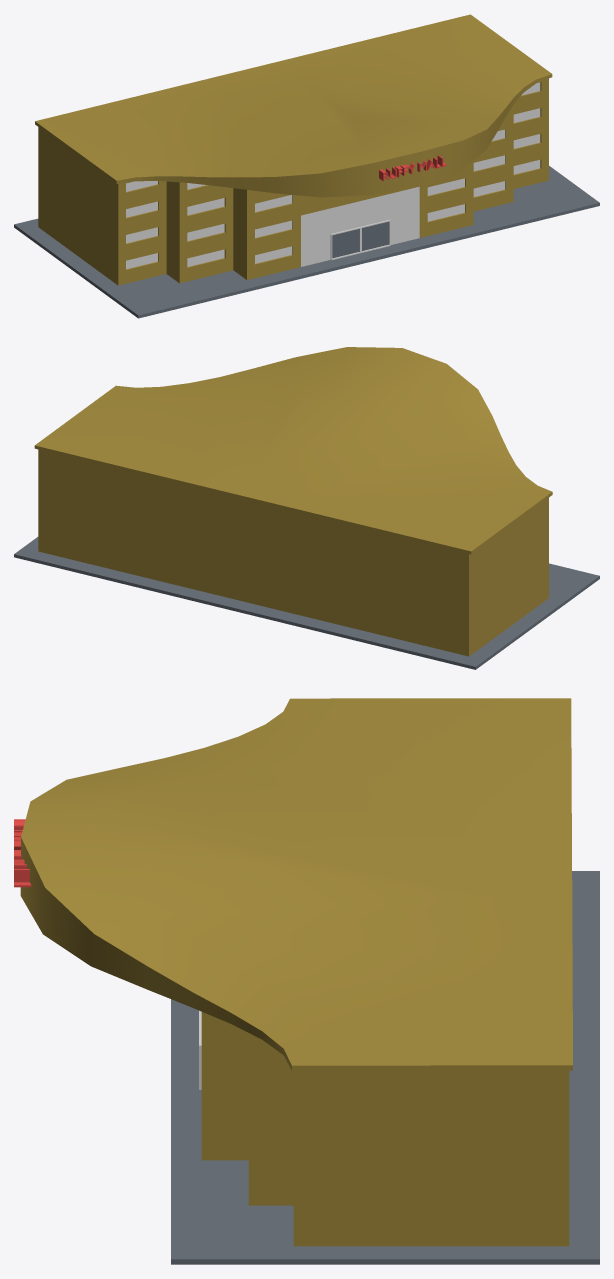
Rendered from Ruffy_mall1.fbx.
3 views of the same model, one above another, from view 1: azimuth 30°, elevation 25°; view 2: azimuth 150°, elevation 25°; view 3: azimuth 270°, elevation 25° (orthographic). The views are drawn at different scales.
Parts seen in each view (by area): view 1: mall.003, Floor_01, Floor_01.001, Plane.005, Floor_01.002, Floor_01.003, Text; view 2: mall.003, Floor_01, Floor_01.001, Floor_01.002, Floor_01.003, Plane.005; view 3: mall.003, Plane.005, Floor_01, Floor_01.001, Floor_01.002, Floor_01.003, Text.
Part boxes in pixels (x1,y1,x2,y2): mall.003: [35, 14, 552, 197]; Floor_01: [38, 155, 548, 285]; Floor_01.001: [38, 129, 548, 259]; Plane.005: [14, 166, 599, 318]; Floor_01.002: [38, 103, 548, 233]; Floor_01.003: [38, 78, 548, 208]; Text: [379, 155, 446, 181]; mall.003: [34, 347, 552, 554]; Floor_01: [38, 526, 548, 656]; Floor_01.001: [38, 500, 548, 630]; Floor_01.002: [38, 474, 548, 604]; Floor_01.003: [38, 449, 548, 579]; Plane.005: [14, 537, 599, 669]; mall.003: [20, 698, 572, 1070]; Plane.005: [171, 871, 599, 1264]; Floor_01: [199, 1010, 569, 1246]; Floor_01.001: [201, 1071, 569, 1201]; Floor_01.002: [201, 1027, 569, 1157]; Floor_01.003: [201, 1012, 569, 1112]; Text: [14, 819, 31, 887].
Bounding box in the file's own units: 15000 × 4358 × 9562.
Materials: 7 (6 with a texture image).
